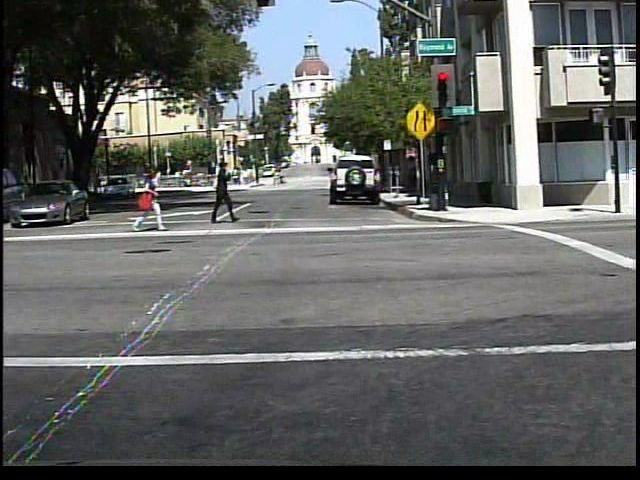person: (127, 161, 164, 235), (201, 158, 239, 225), (274, 167, 279, 188), (279, 169, 283, 188)
